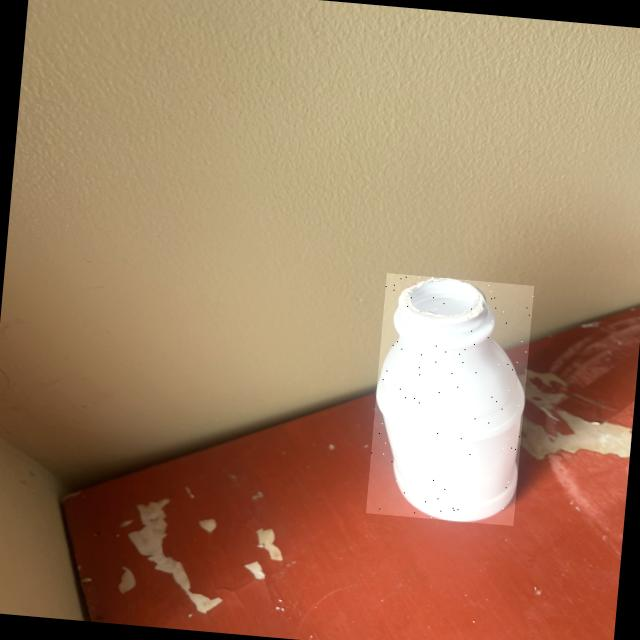HDPE_Bottle: (376, 279, 523, 521)
